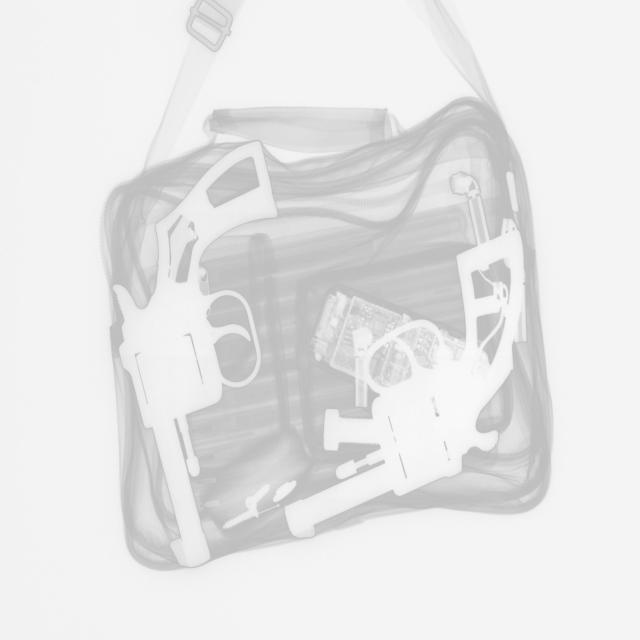pistol: (282, 230, 528, 540), (113, 139, 282, 569)
